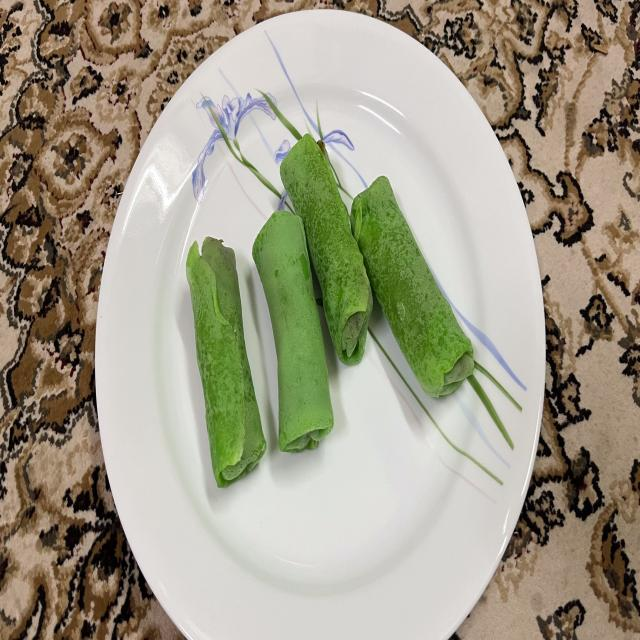Kuih-Ketayap: (350, 176, 474, 398), (280, 133, 372, 364), (186, 238, 266, 487), (252, 211, 334, 451)
